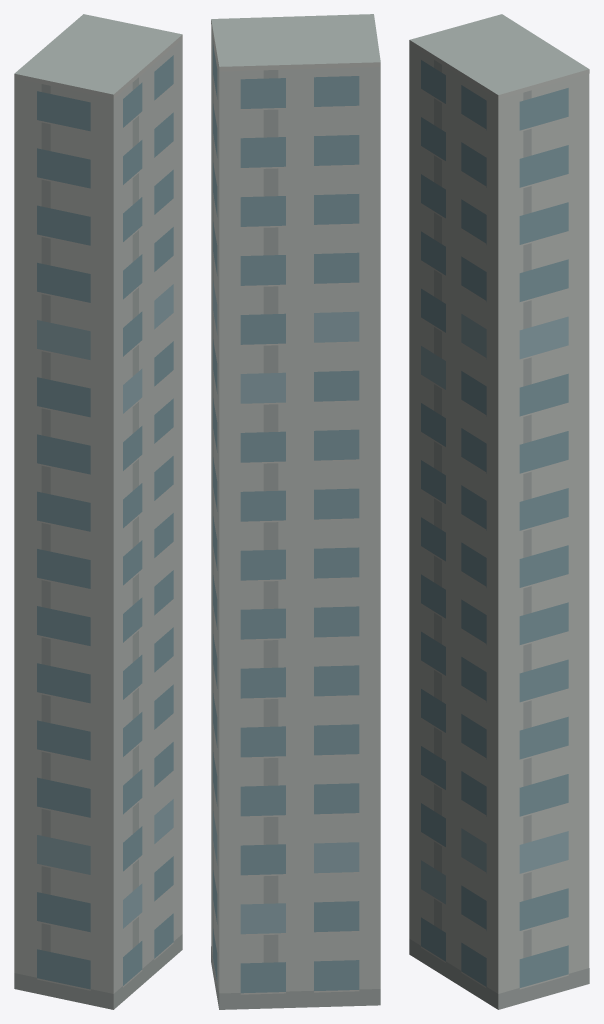
File: survey-upis-32563520.glb
The picture shows the model from 3 angles, left to right: view 1: azimuth 30°, elevation 25°; view 2: azimuth 150°, elevation 25°; view 3: azimuth 270°, elevation 25°; orthographic projection. The views are drawn at different scales.
Visible parts, largest first — view 1: survey-upis-32563520.tmp; view 2: survey-upis-32563520.tmp; view 3: survey-upis-32563520.tmp.
Part boxes in pixels (box(x1,y1,x2,y2)): survey-upis-32563520.tmp: box(14, 14, 182, 1009); survey-upis-32563520.tmp: box(211, 14, 380, 1009); survey-upis-32563520.tmp: box(409, 14, 589, 1009).
Bounding box in the file's own units: 9.3 × 48.8 × 8.71.
